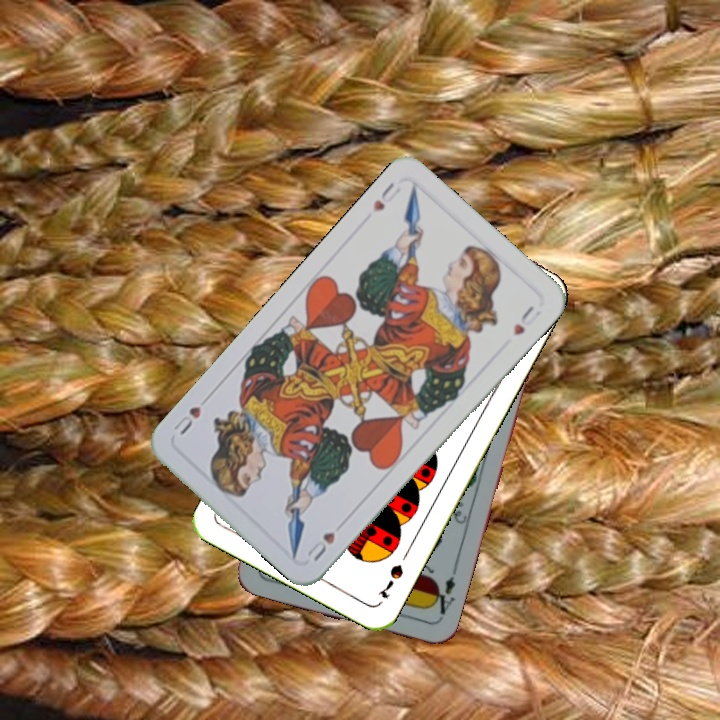EA: (426, 564, 460, 621)
HU: (303, 527, 338, 564), (368, 178, 403, 215)
S7: (373, 560, 406, 601)
